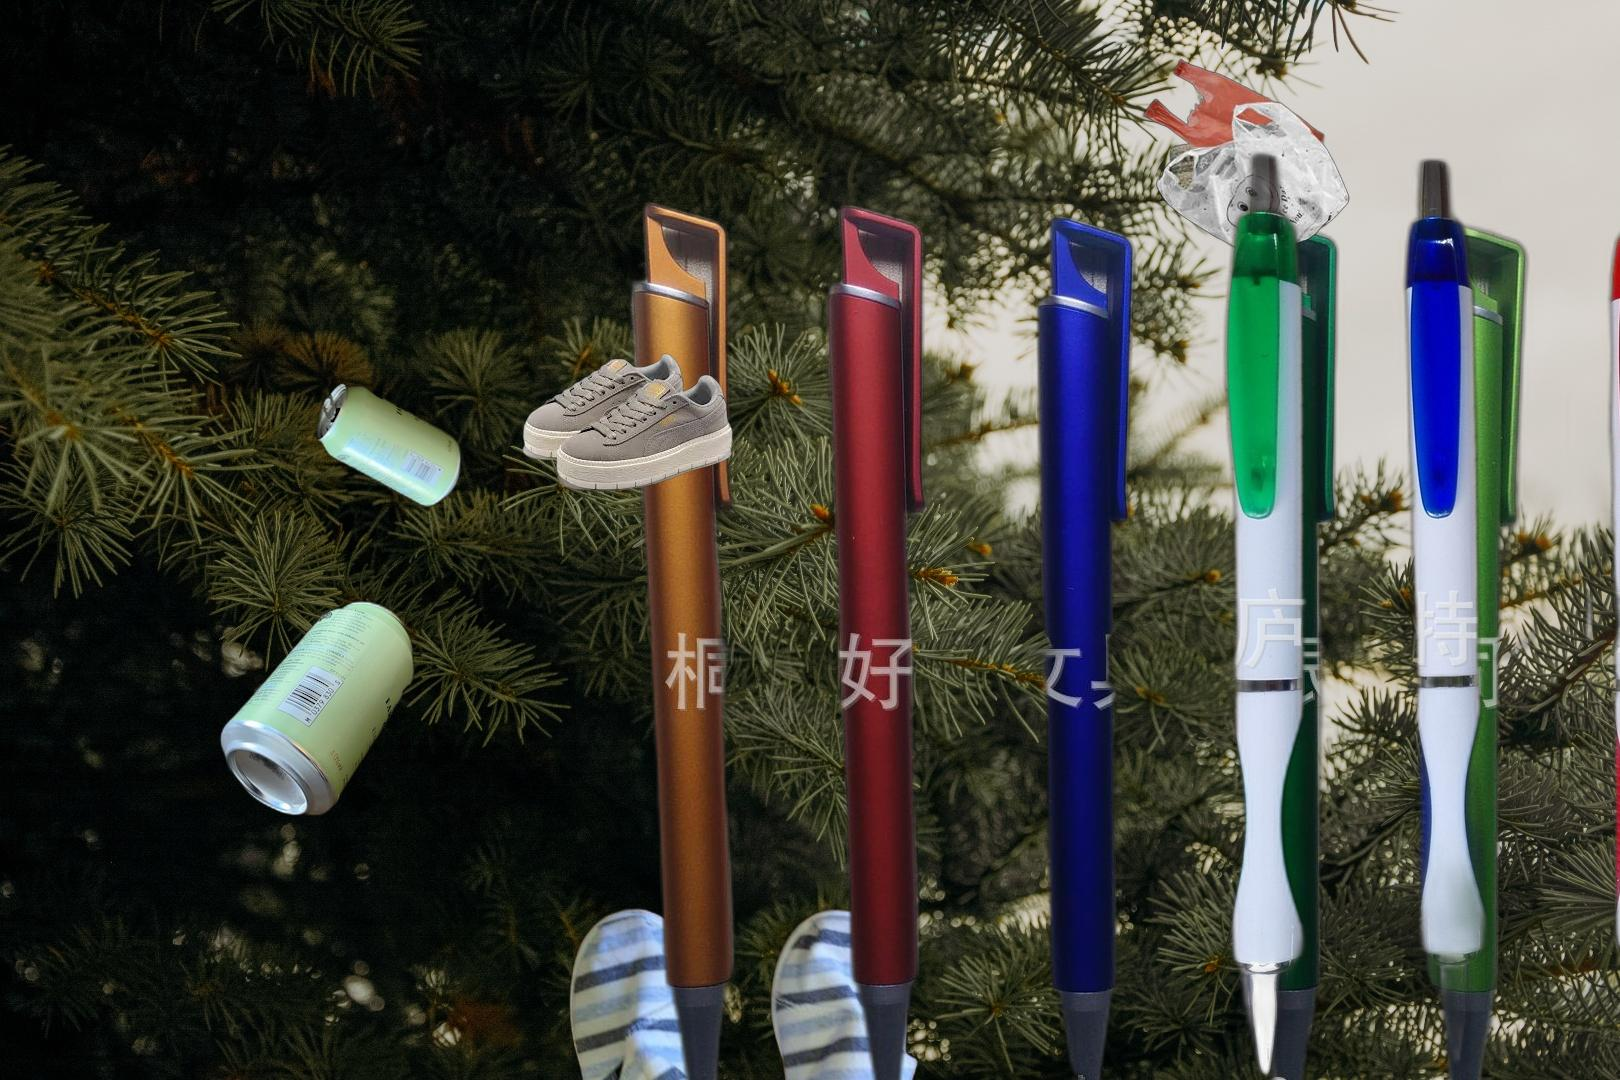metal-cans: (216, 595, 418, 822), (312, 377, 466, 513)
penholder: (622, 168, 1571, 1080), (1196, 143, 1620, 1080)
plastic-bag: (1135, 58, 1352, 258)
shoes: (567, 904, 920, 1080), (520, 351, 735, 494)
